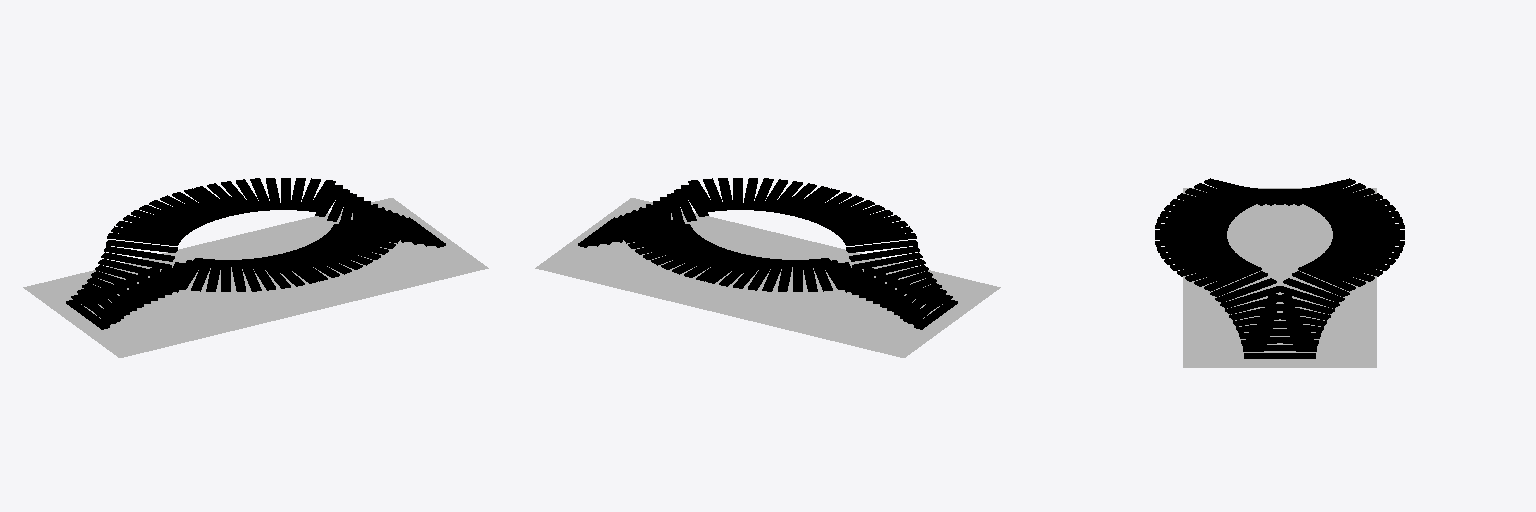
The model's file is stairs.obj.
3 renders of one model, left to right at view 1: azimuth 30°, elevation 25°; view 2: azimuth 150°, elevation 25°; view 3: azimuth 270°, elevation 25°, orthographic.
Parts seen in each view (by area): view 1: Plane.003, Plane.006; view 2: Plane.003, Plane.006; view 3: Plane.003, Plane.006.
Part boxes in pixels (x1,y1,x2,y2): Plane.003: (66, 178, 445, 329); Plane.006: (23, 198, 488, 357); Plane.003: (578, 178, 957, 329); Plane.006: (535, 198, 1000, 357); Plane.003: (1155, 178, 1404, 358); Plane.006: (1183, 188, 1376, 367).
Bounding box in the file's own units: 44 × 5 × 25.89.